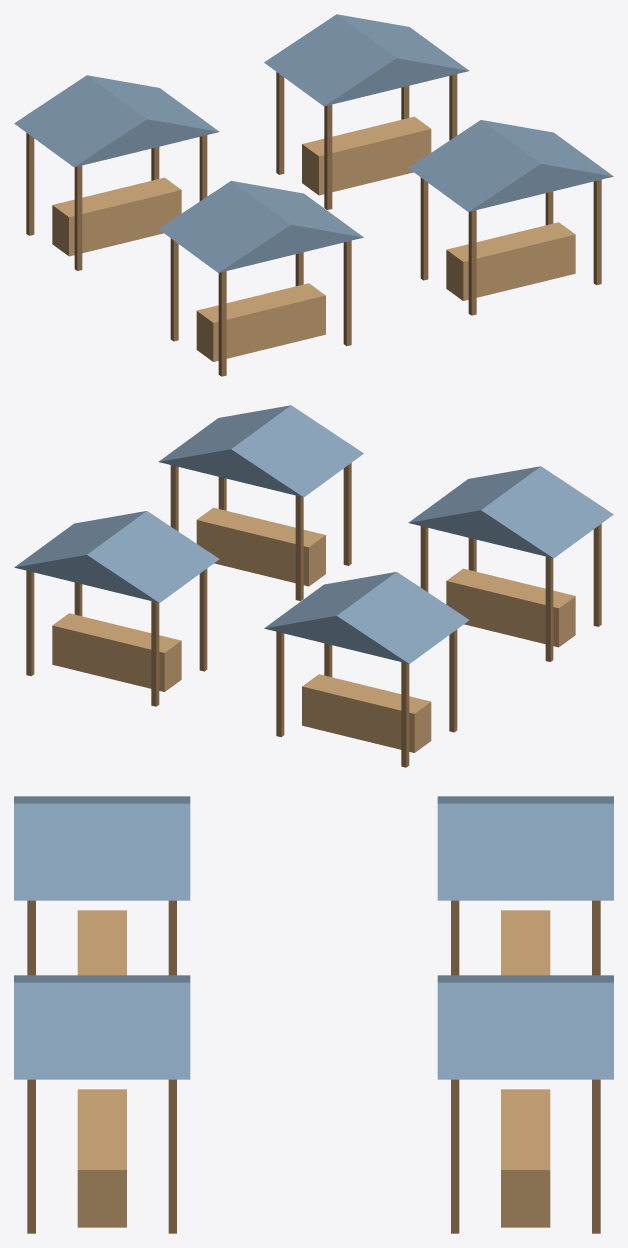
File: market-square.glb
3 views of the same model, one above another, from view 1: azimuth 30°, elevation 25°; view 2: azimuth 150°, elevation 25°; view 3: azimuth 270°, elevation 25° (orthographic). The views are drawn at different scales.
Visible parts, largest first — view 1: market-square; view 2: market-square; view 3: market-square.
Boxes of the visible parts, x1,y1,x2,y2 form: market-square: [14, 14, 613, 376]; market-square: [14, 405, 613, 767]; market-square: [14, 796, 613, 1233].
Bounding box in the file's own units: 9.5 × 3.2 × 8.5.
